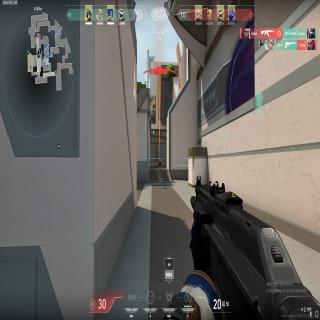ENEMY-BODY: (158, 158, 162, 167), (57, 142, 61, 150)
